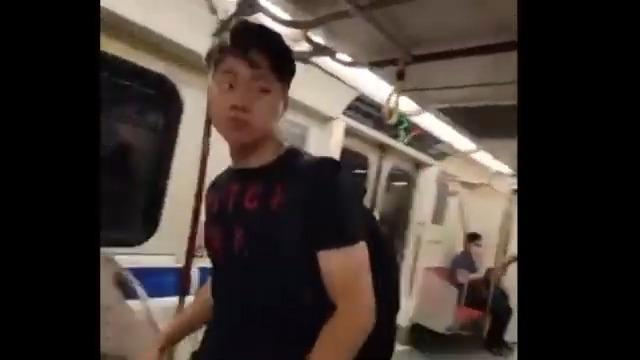non-violence: (154, 21, 401, 359), (451, 231, 515, 352)
